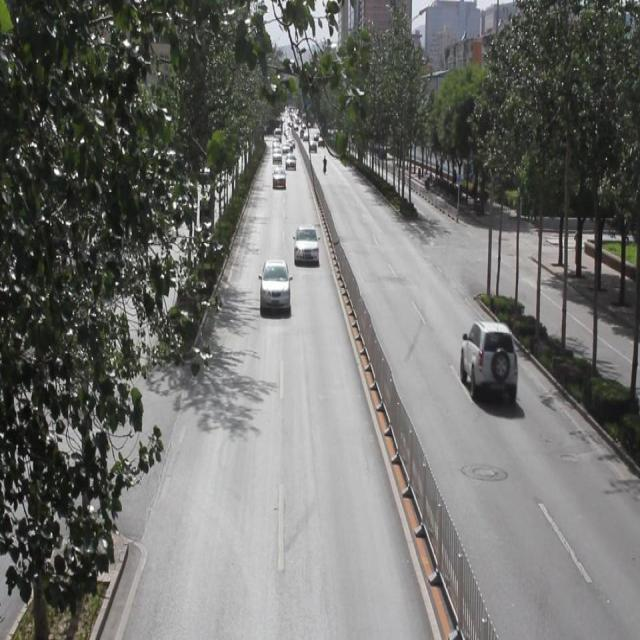car: (461, 321, 516, 401), (259, 258, 290, 314), (293, 225, 320, 268), (272, 167, 285, 190)
